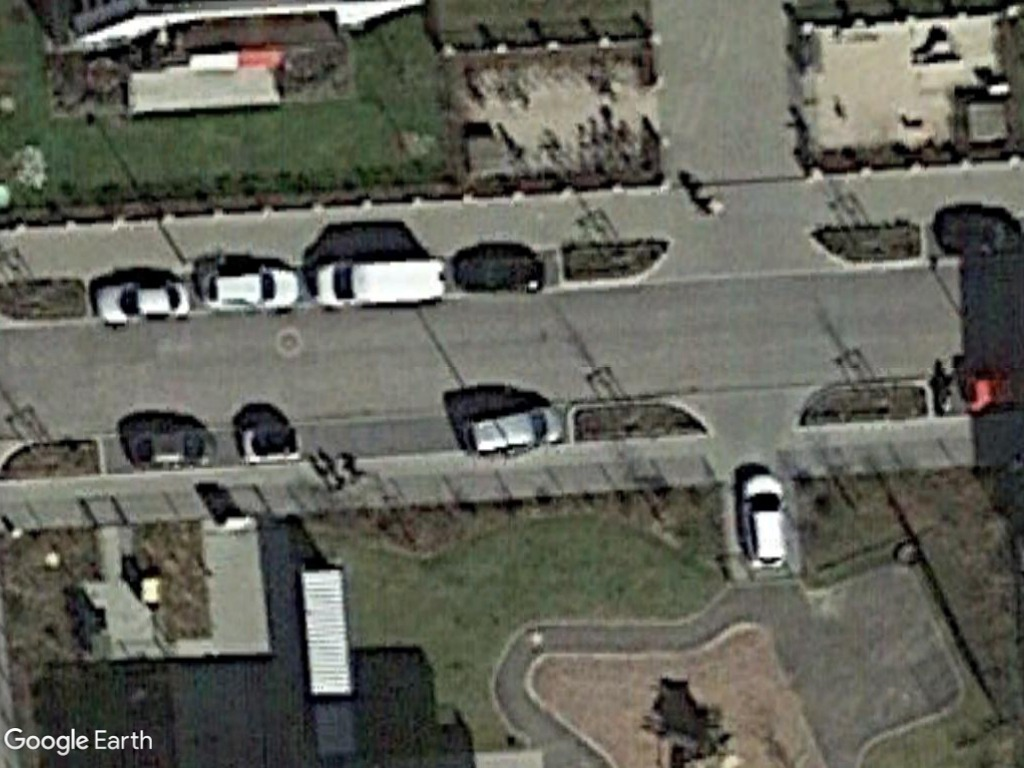car: (737, 470, 791, 575), (197, 265, 304, 316), (91, 279, 195, 328), (124, 424, 218, 473)
longvehicle: (292, 560, 357, 703)
van: (311, 255, 449, 314), (462, 402, 567, 457)
